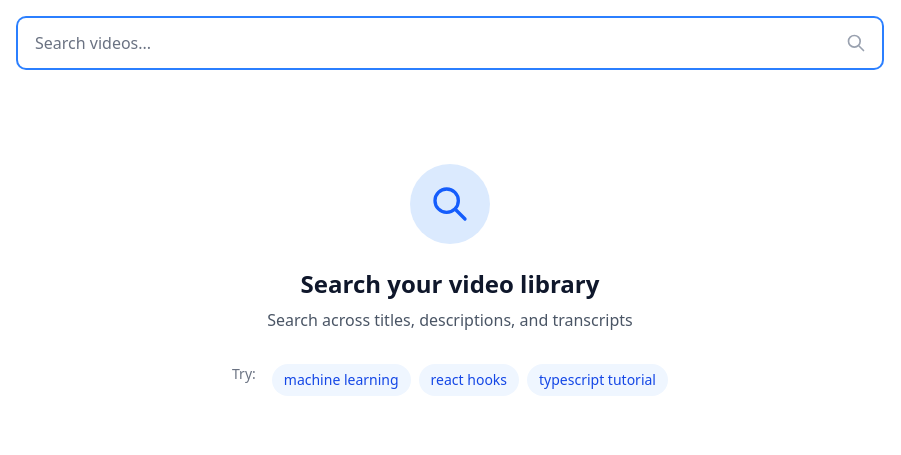
Test: SearchPage Phase 6 Tests › T038: Static Results Tests › should use infinite scroll for transcript section only
Type "test" into the search field at (450, 43), box [18,18,882,68]
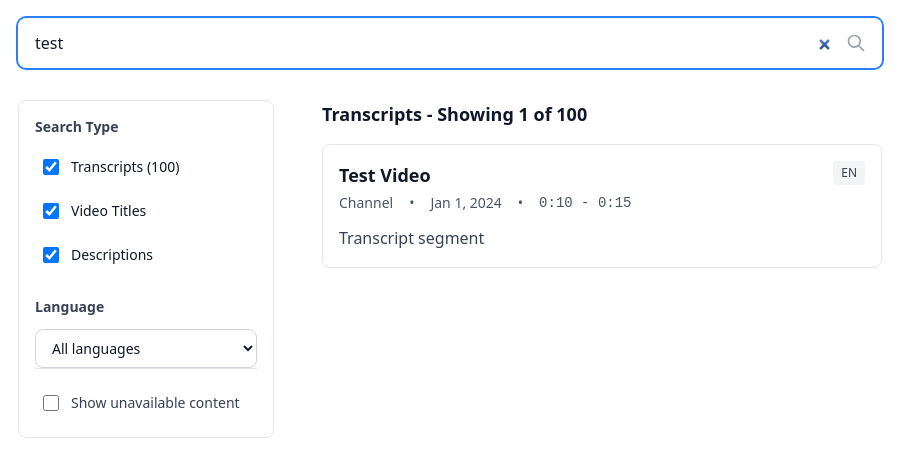
expect the link "Test Video" is shown: met, box [339,163,431,187]
